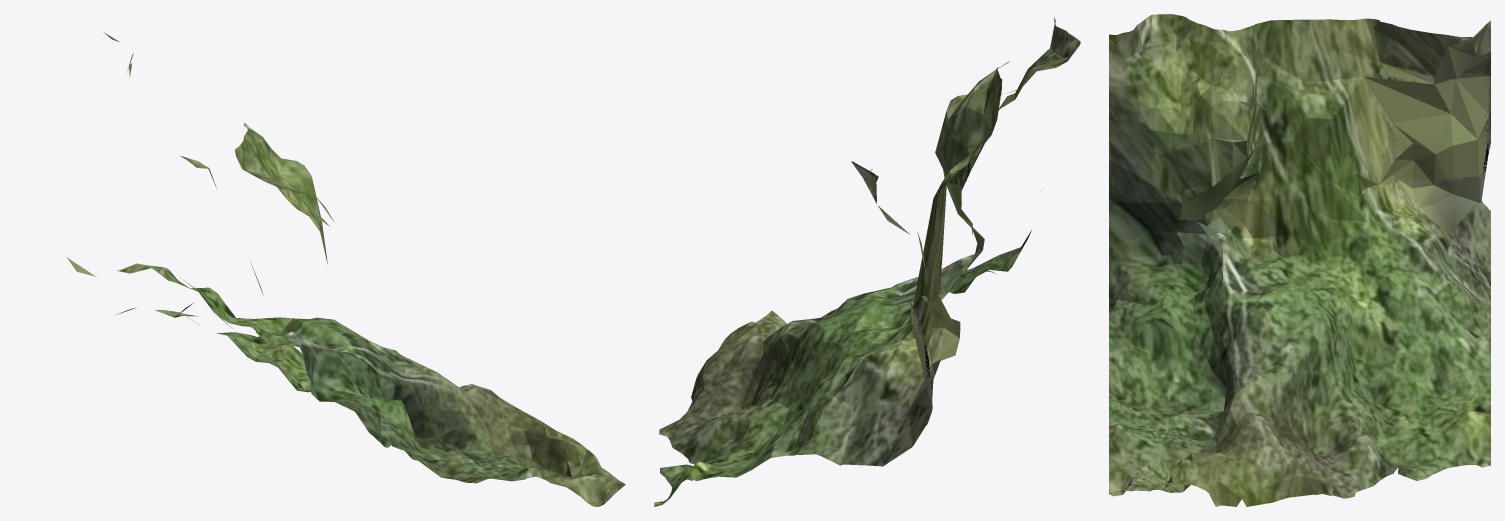
The picture shows the model from 3 angles, left to right: view 1: azimuth 30°, elevation 25°; view 2: azimuth 150°, elevation 25°; view 3: azimuth 270°, elevation 25°; orthographic projection. The views are drawn at different scales.
Bounding box in the file's own units: 5.9 × 5.9 × 5.9.
Materials: 4 (4 with a texture image).
